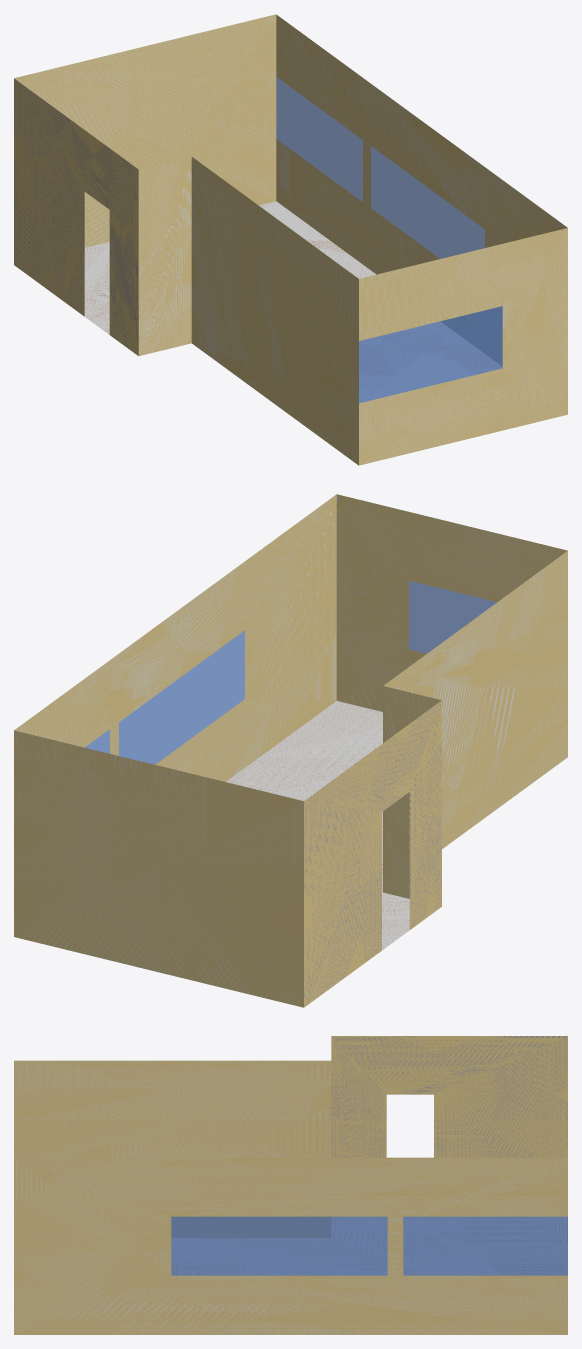
File: LAB011.obj
3 views of the same model, one above another, from view 1: azimuth 30°, elevation 25°; view 2: azimuth 150°, elevation 25°; view 3: azimuth 270°, elevation 25° (orthographic). The views are drawn at different scales.
Parts seen in each view (by area): view 1: Mesh1 LAB011 Model; view 2: Mesh1 LAB011 Model; view 3: Mesh1 LAB011 Model.
Boxes of the visible parts, x1=… form: Mesh1 LAB011 Model: x1=14, y1=14, x2=567, y2=465; Mesh1 LAB011 Model: x1=14, y1=494, x2=567, y2=1007; Mesh1 LAB011 Model: x1=14, y1=1036, x2=567, y2=1334.
Size of the model in its own units: 4.4 by 2.99 by 8.48.
6 materials, 1 textured.
